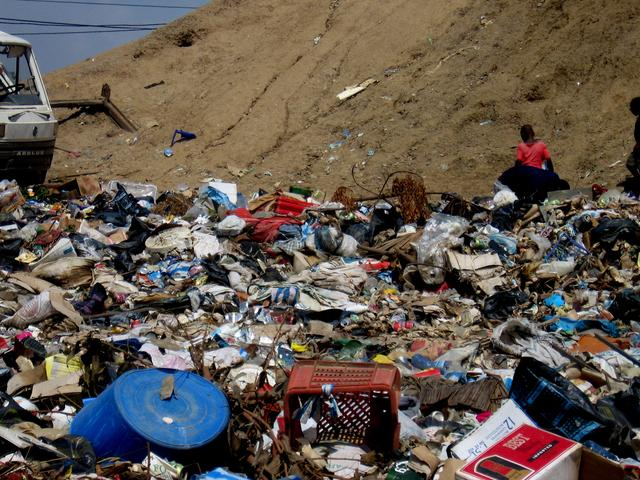garbage: (8, 197, 625, 467)
